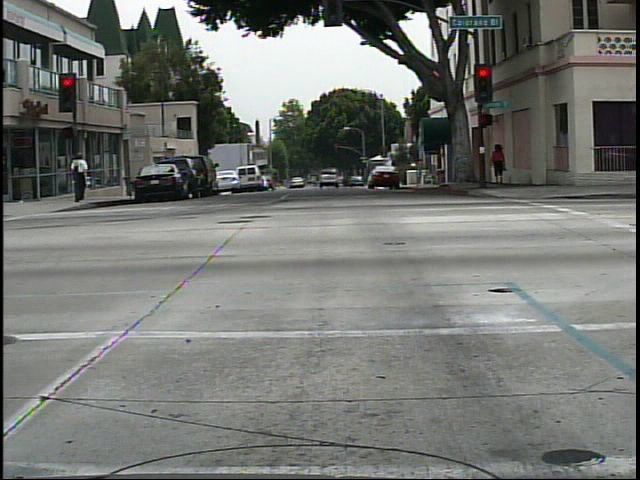person: (65, 147, 93, 209), (484, 137, 514, 190)
